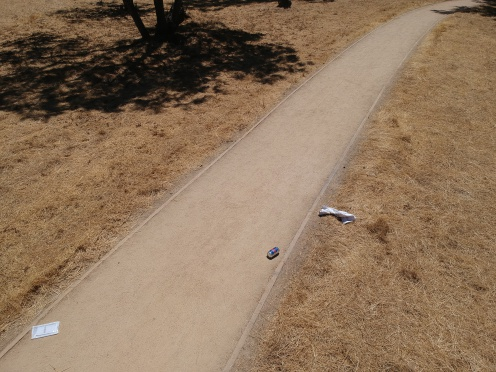can: (264, 242, 281, 261)
